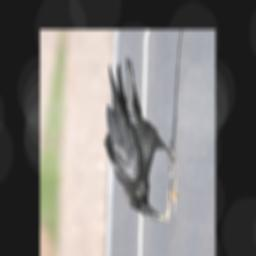Crow: (93, 53, 185, 221)
